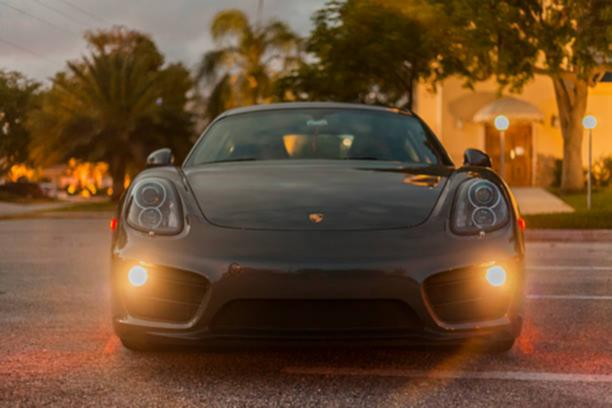porsche: (305, 210, 329, 226)
